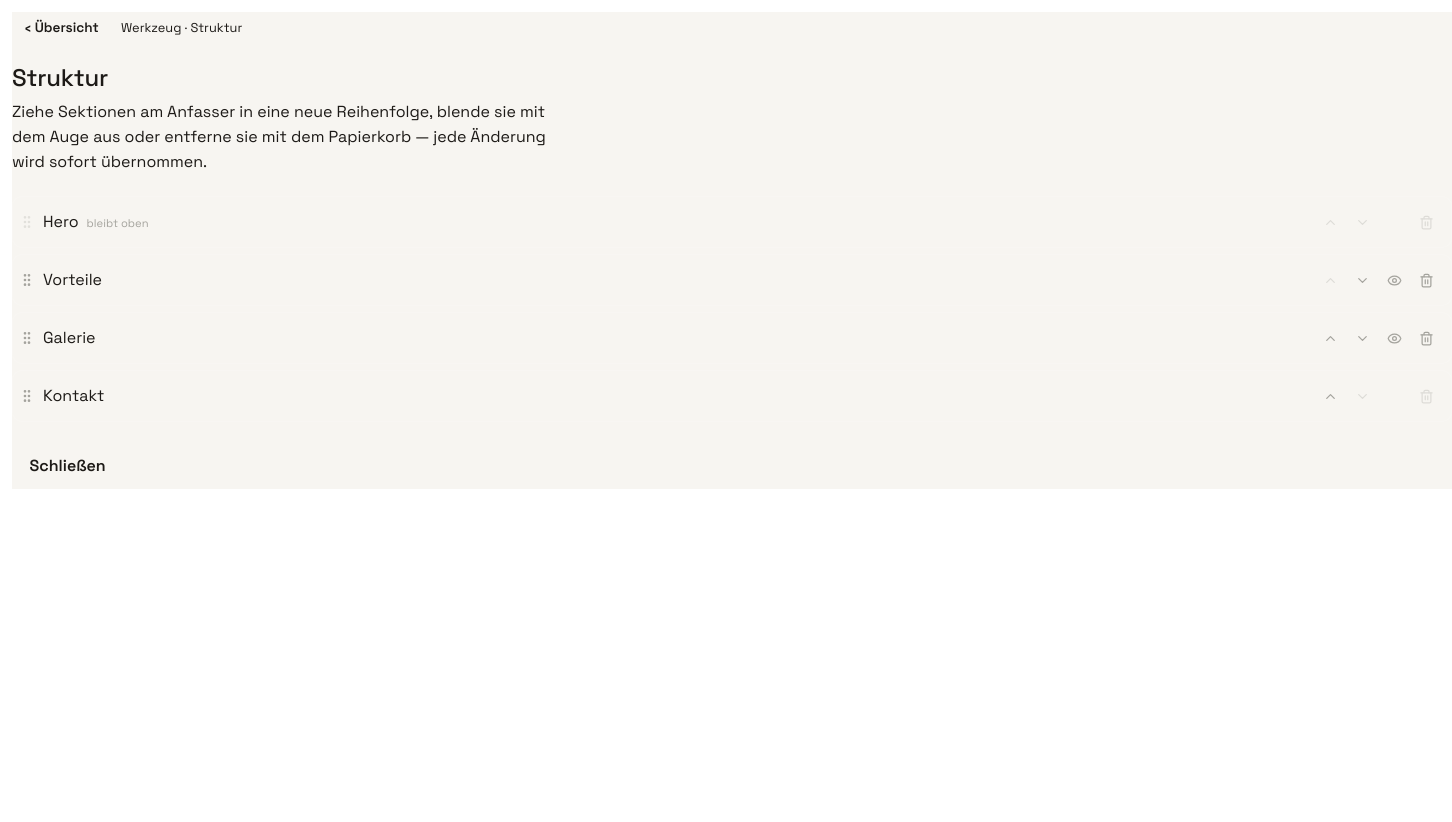
Test: Struktur-Panel: Abschnitt entfernen › Entfernen zeigt den Rückgängig-Hinweis, Rückgängig holt den Abschnitt zurück
What coordinates should you click on to do the following:
click the button named "Vorteile entfernen"
I would click on:
 (1426, 280)
Its box is left=1411, top=265, right=1441, bottom=295.
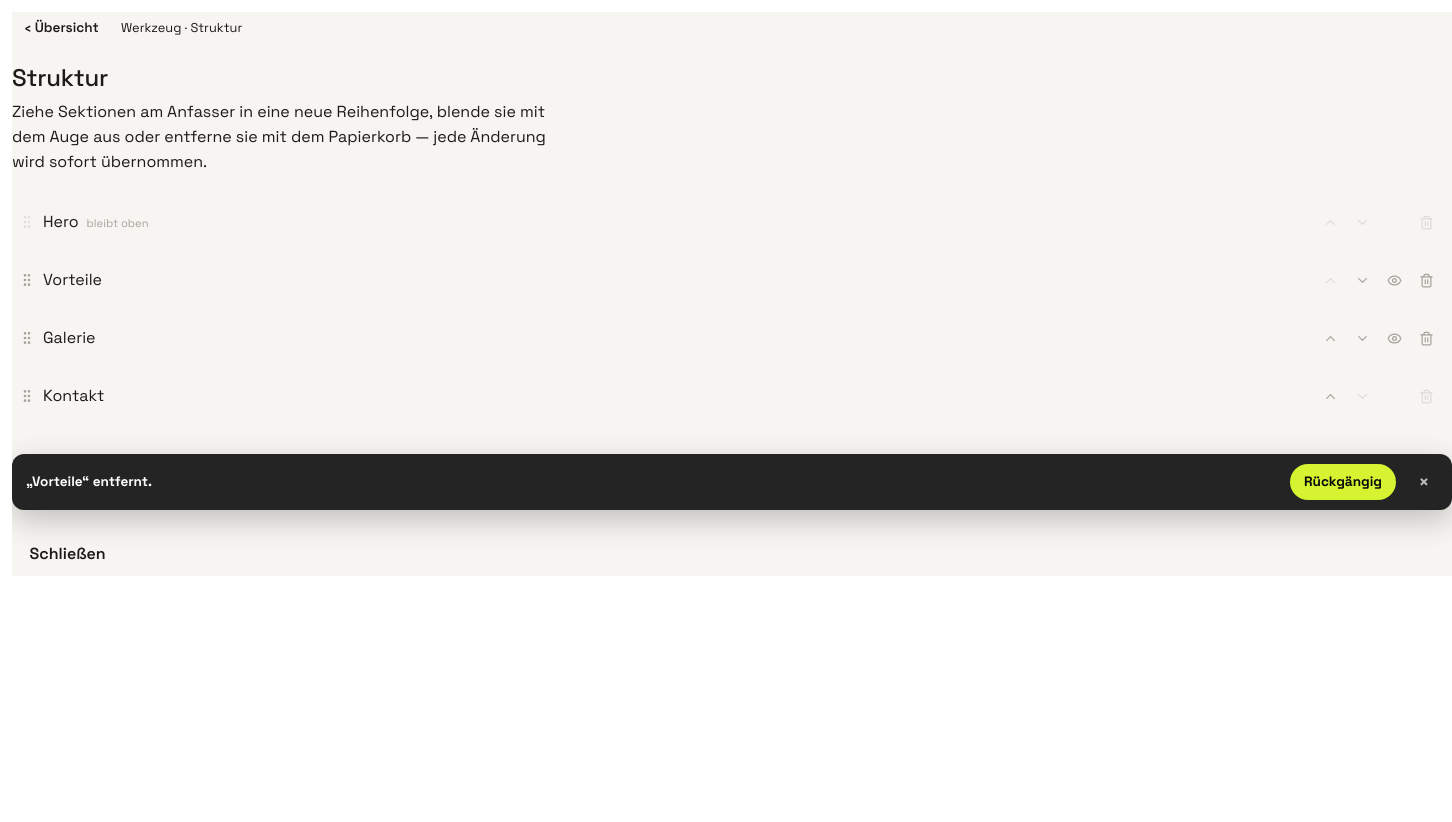
Result: the message "„Vorteile“ entfernt. Rückgängig ×" is shown at left=12, top=454, right=1451, bottom=510
What coordinates should you click on to do the following:
click the button "Rückgängig"
I would click on:
 (1343, 482)
Its box is left=1290, top=464, right=1396, bottom=500.
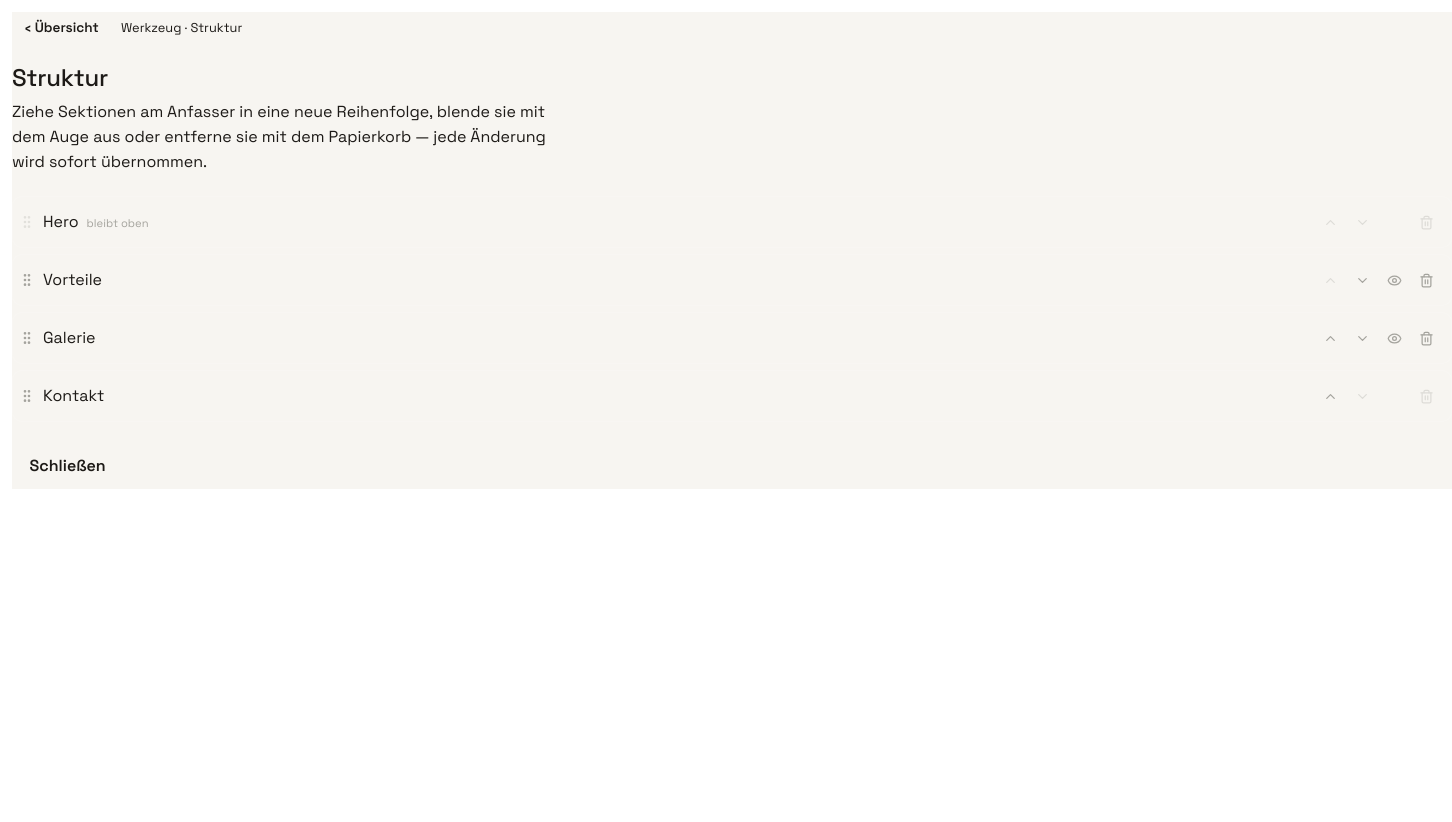
Result: the message "„Vorteile“ entfernt. Rückgängig ×" is gone
